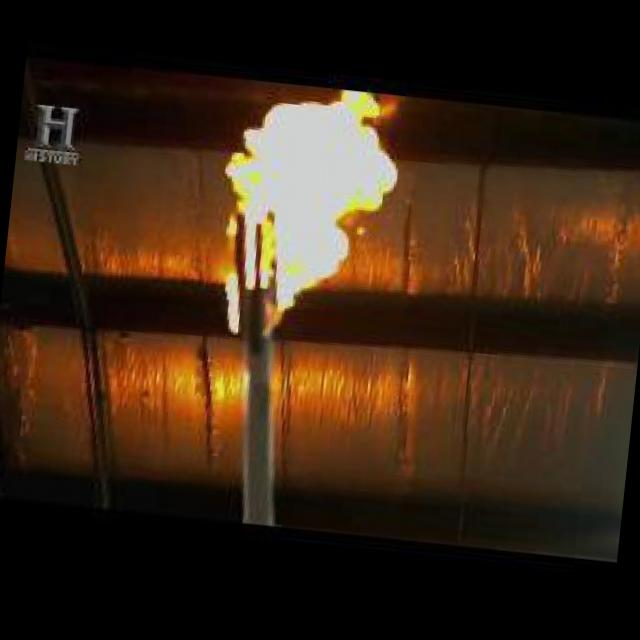fire: (206, 88, 416, 338)
